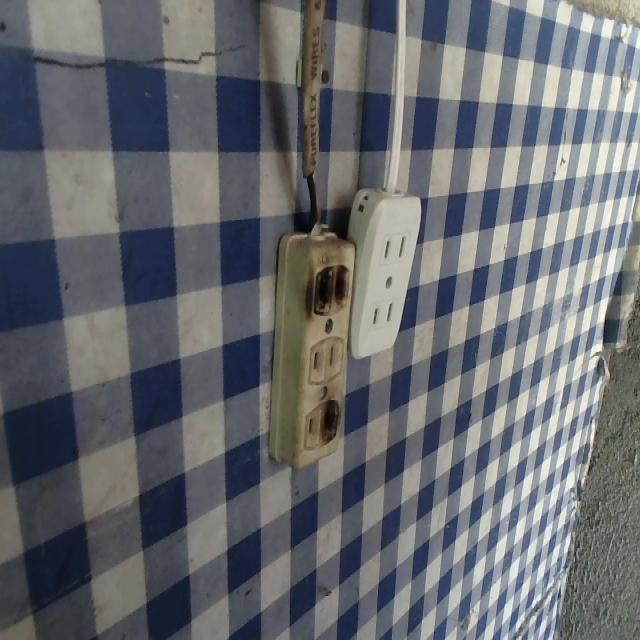-: (307, 262, 350, 314), (321, 398, 341, 446)
